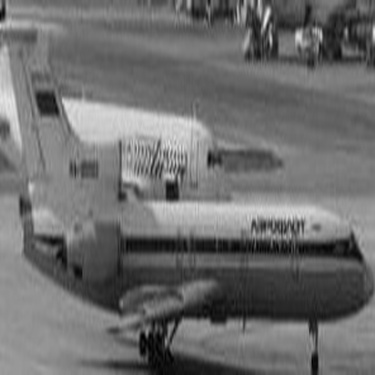airplane: (1, 14, 369, 368), (1, 22, 228, 217)
